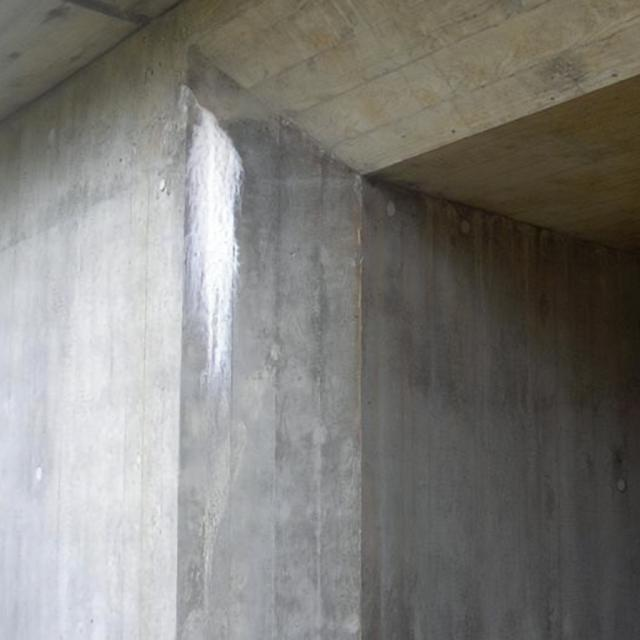D01: (186, 106, 245, 385)
